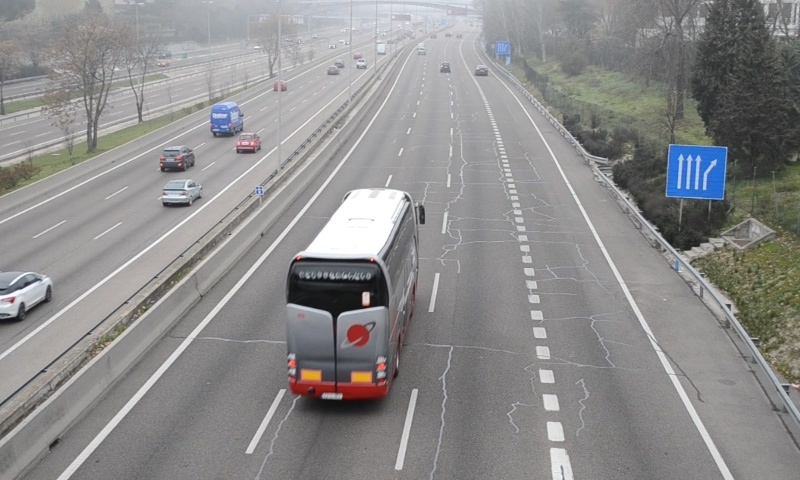bus: (285, 188, 418, 398)
car: (438, 60, 452, 74), (474, 64, 488, 77)
